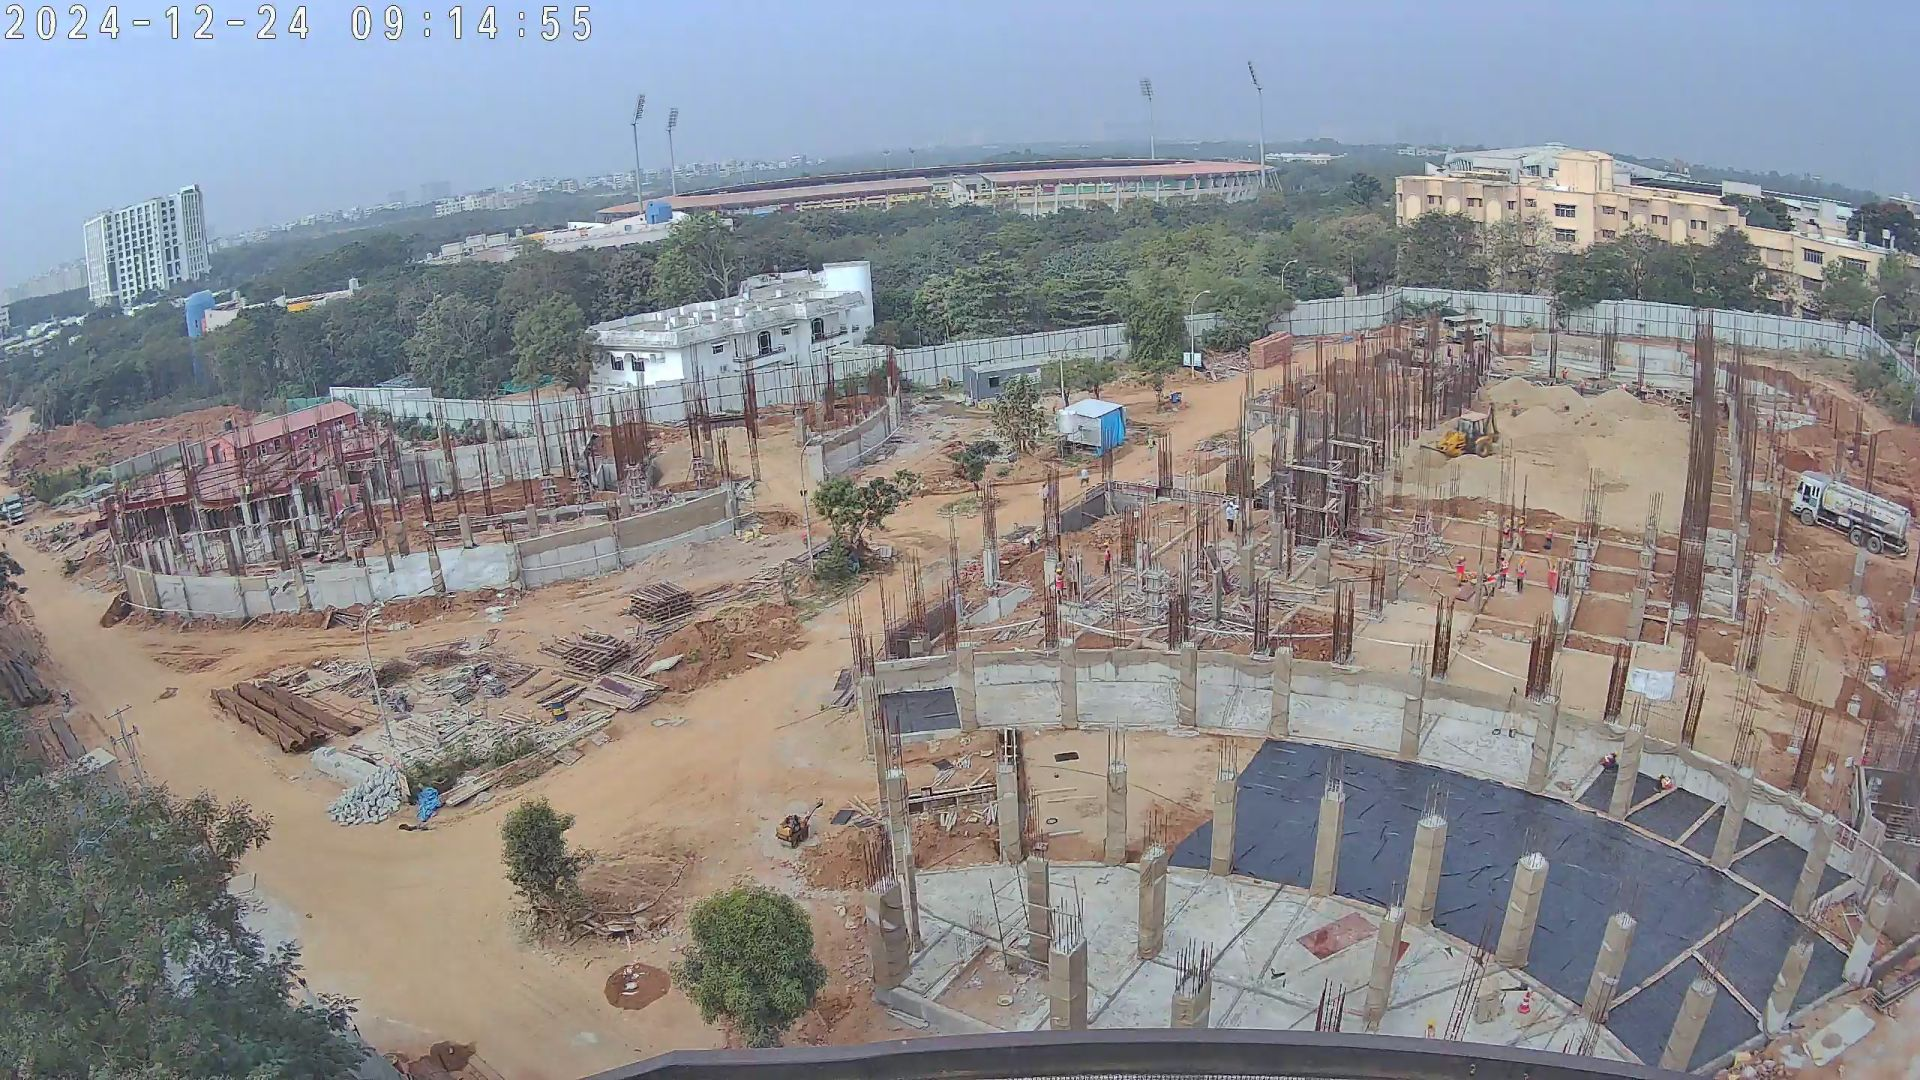bulldozer: (1434, 401, 1501, 463)
truck: (1789, 467, 1910, 564), (1441, 310, 1491, 346), (1, 493, 29, 523)
worker: (1047, 566, 1067, 608), (1491, 554, 1510, 594), (1221, 500, 1239, 536), (1100, 537, 1113, 584), (1600, 748, 1622, 775), (1513, 557, 1529, 593), (1454, 551, 1467, 590), (1509, 396, 1523, 430), (1039, 484, 1053, 517), (1546, 563, 1559, 598), (1657, 771, 1677, 792), (1074, 466, 1089, 493), (1484, 566, 1494, 600), (1543, 517, 1553, 551), (1573, 377, 1589, 398), (801, 521, 811, 553), (1145, 433, 1156, 459), (1025, 530, 1038, 550), (971, 473, 981, 498), (1560, 360, 1566, 383)
